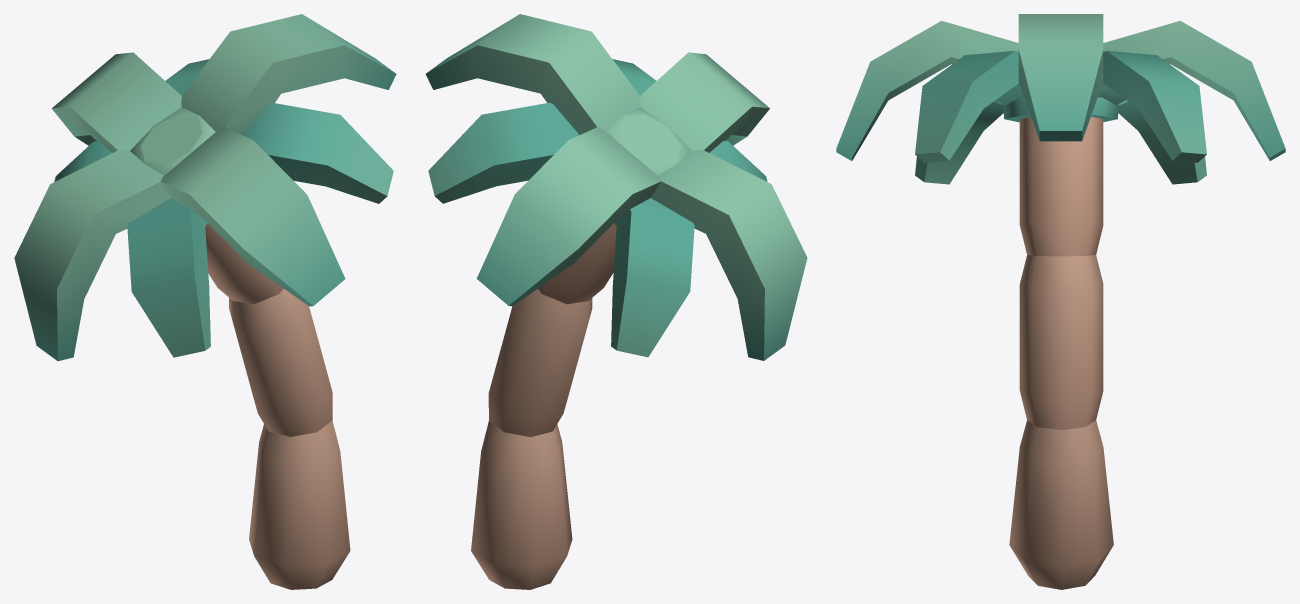
File: palm-detailed-bend.glb
The picture shows the model from 3 angles, left to right: view 1: azimuth 30°, elevation 25°; view 2: azimuth 150°, elevation 25°; view 3: azimuth 270°, elevation 25°; orthographic projection.
Parts seen in each view (by area): view 1: palm-detailed-bend; view 2: palm-detailed-bend; view 3: palm-detailed-bend.
Part boxes in pixels (left/top/right/bottom): palm-detailed-bend: left=14, top=14, right=396, bottom=589; palm-detailed-bend: left=425, top=14, right=807, bottom=589; palm-detailed-bend: left=836, top=14, right=1285, bottom=589.
Size of the model in its own units: 2.88 by 4.25 by 3.22.
